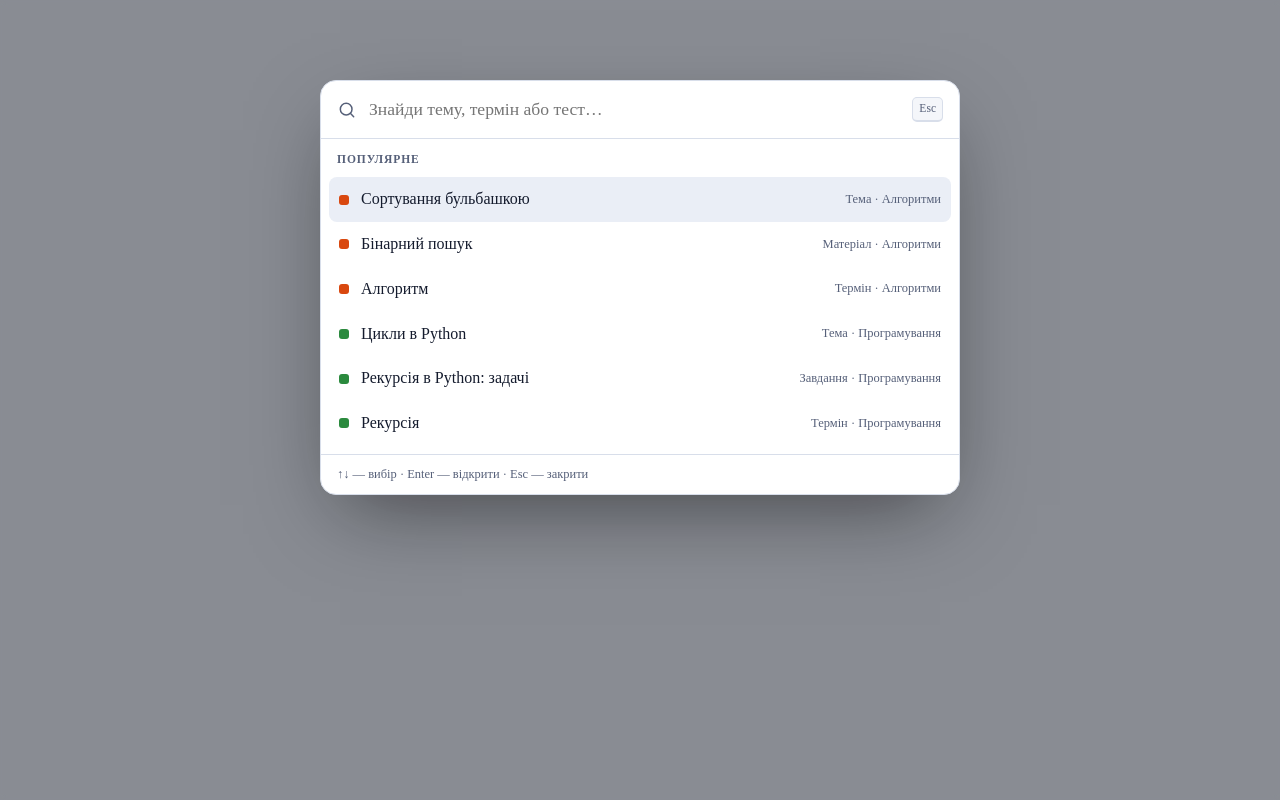
Test: search palette › a query with no match shows the empty message
Step 1. Type "zzz" into the dropdown → (635, 110), box [367,95,902,124]
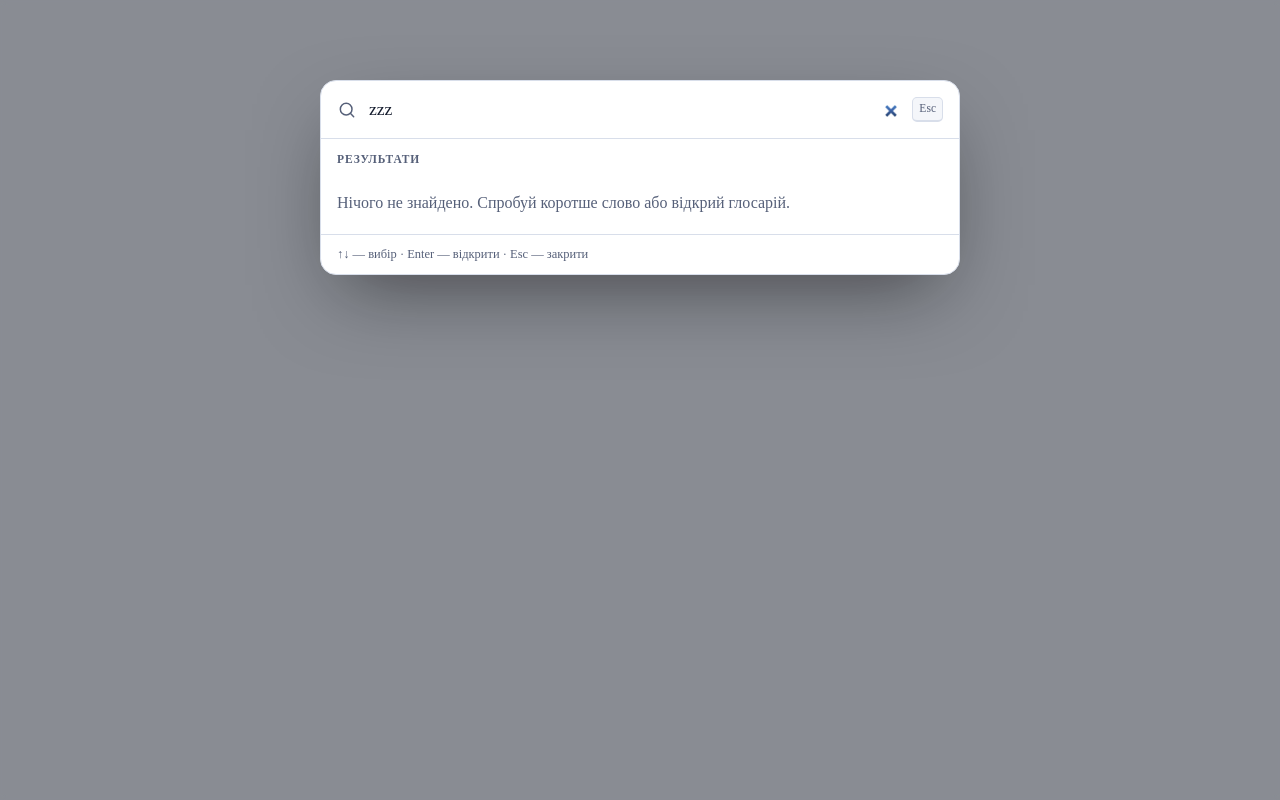
Now no options are shown
Now the message shows "Нічого не знайдено", box [337,194,790,211]
